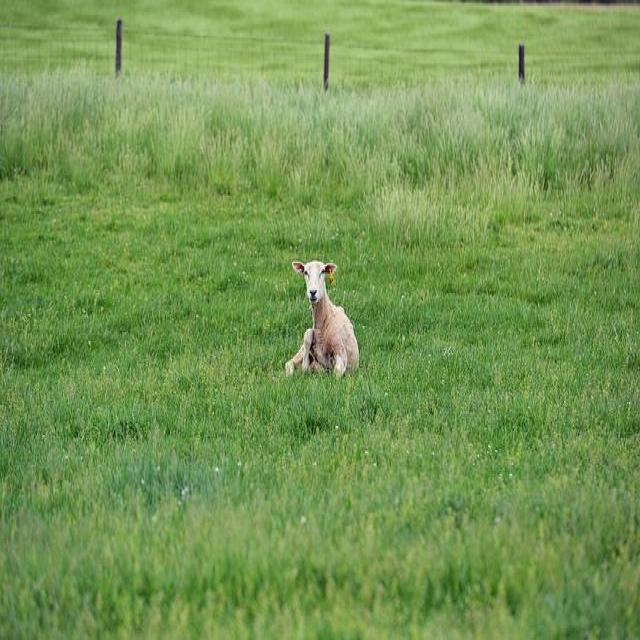Sheep: (286, 260, 361, 378)
